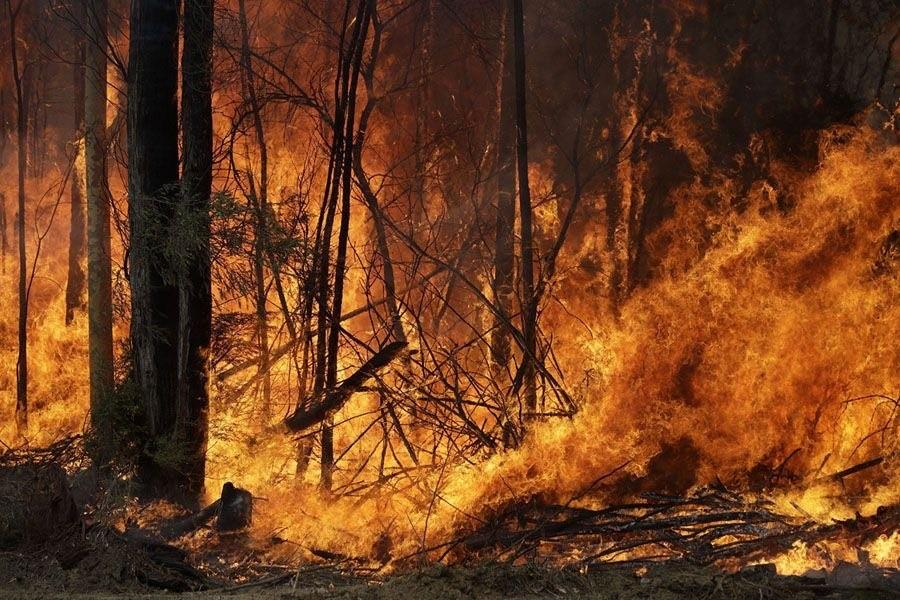fire: (352, 224, 900, 592), (132, 195, 338, 578), (0, 152, 112, 492)
